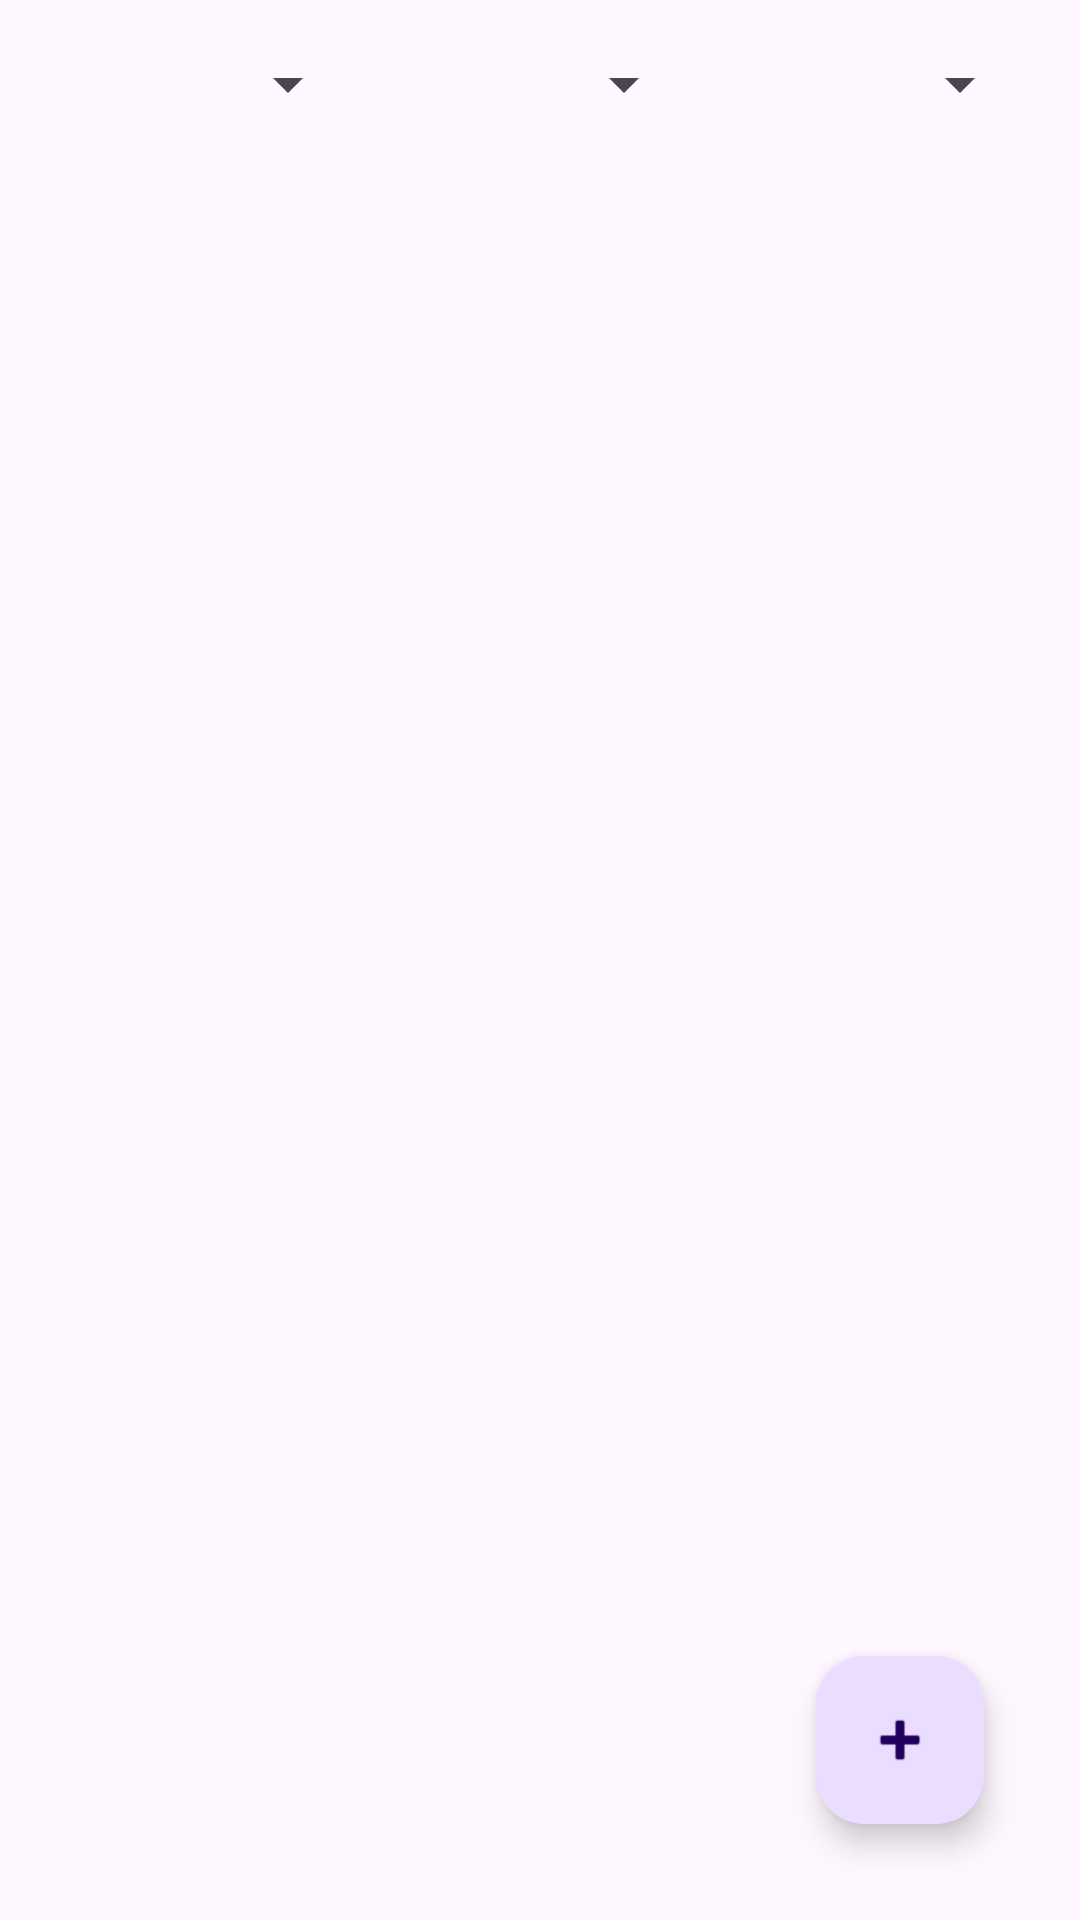

Named icons in this screenshot (1080x1920) and their centers, (x,y):
Добавить мероприятие: (900,1740)
